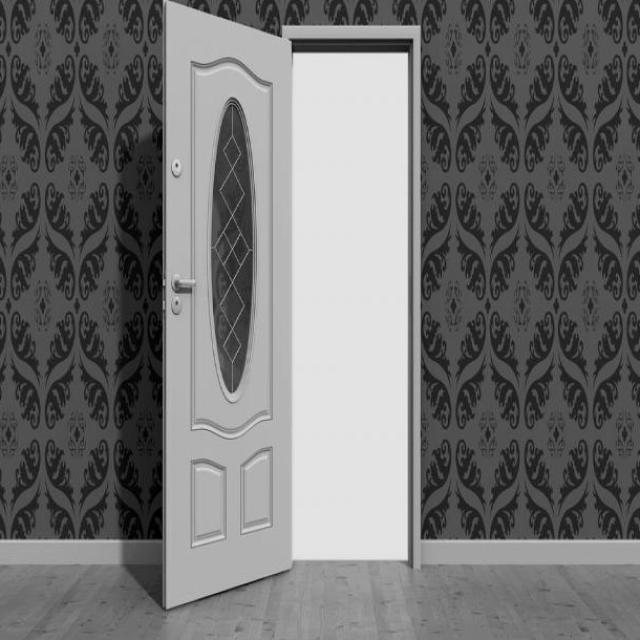door: (160, 0, 294, 609)
